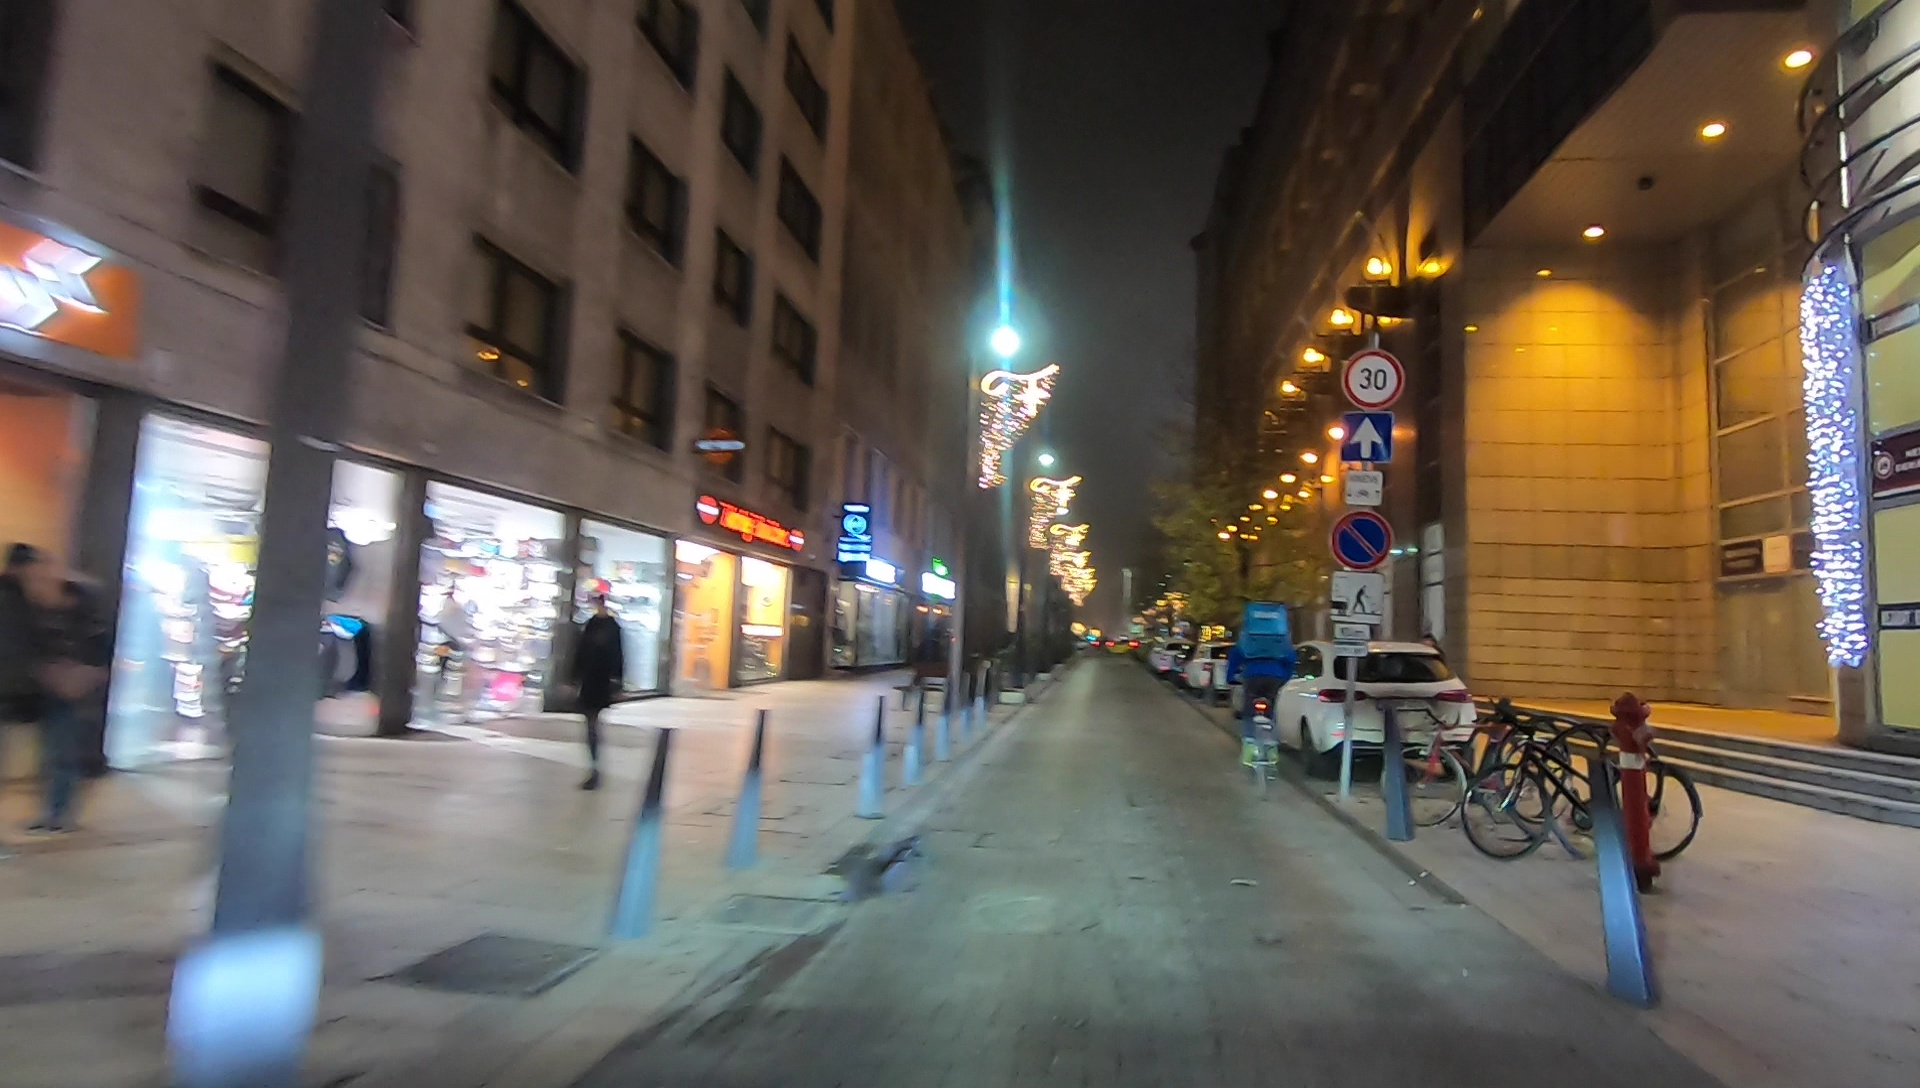person: (34, 571, 106, 830), (558, 595, 625, 789)
